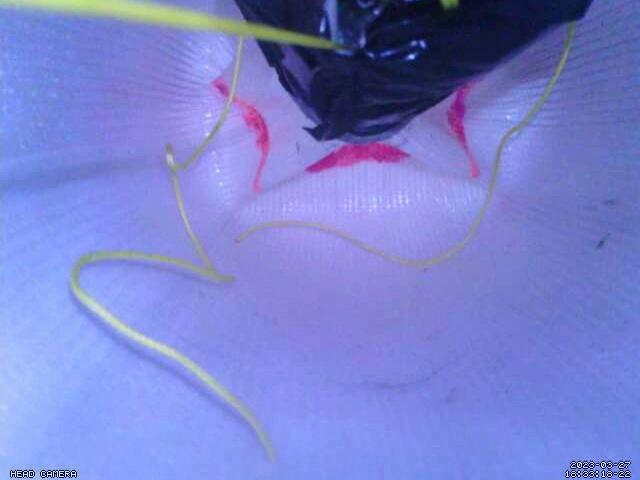head: (211, 78, 481, 177)
